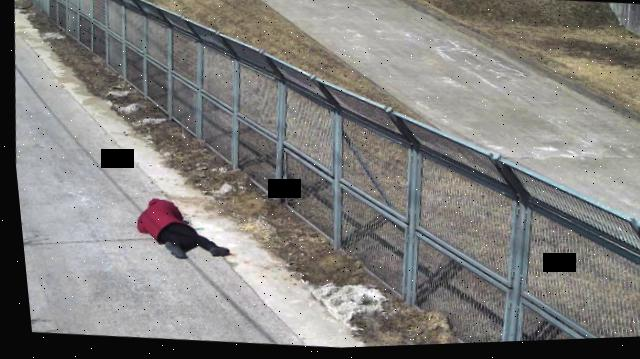fall: (125, 192, 232, 265)
